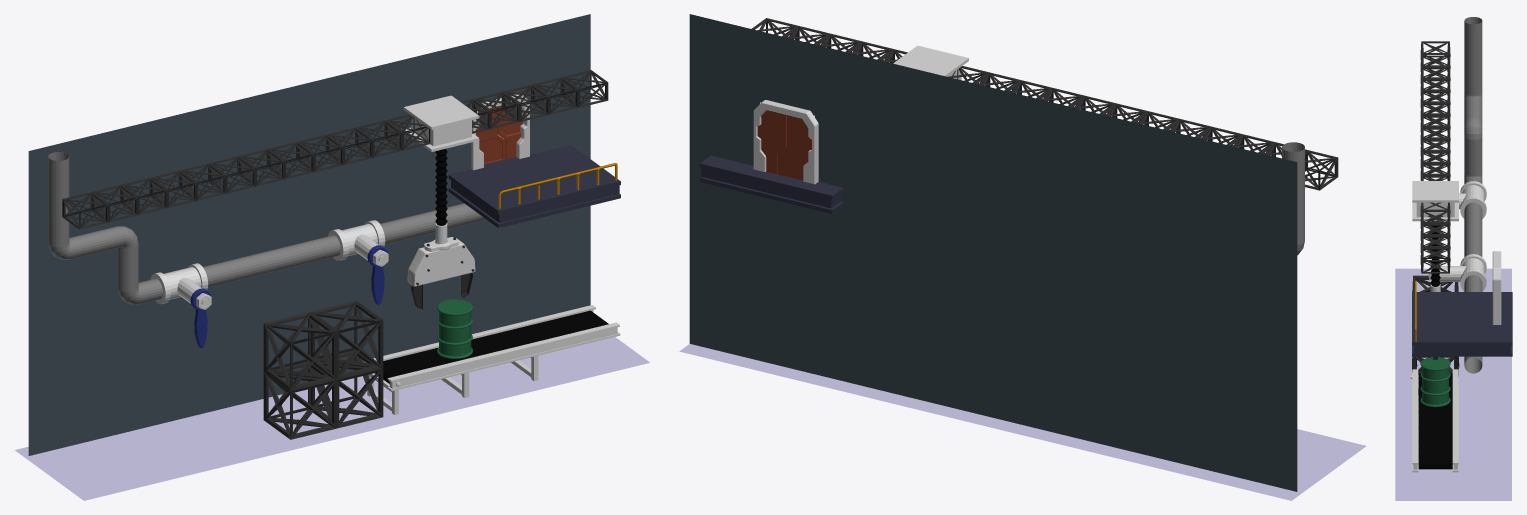
Rendered from production_line.fbx.
The picture shows the model from 3 angles, left to right: view 1: azimuth 30°, elevation 25°; view 2: azimuth 150°, elevation 25°; view 3: azimuth 270°, elevation 25°; orthographic projection. The views are drawn at different scales.
Visible parts, largest first — view 1: wall, floor, rail, pipe, scaffolding, destination, conveyor, belt, gripper_system, gripper, barrel, door (+4 smaller); view 2: wall, floor, rail, destination, door, door_l, gripper_system, door_r, pipe; view 3: floor, destination, pipe, rail, belt, gripper_system, conveyor, barrel, door, scaffolding, valve_r, zstring.
Boxes of the visible parts, x1=… form: wall: x1=28, y1=14, x2=590, y2=455; floor: x1=15, y1=337, x2=649, y2=500; rail: x1=62, y1=70, x2=608, y2=229; pipe: x1=48, y1=152, x2=486, y2=304; scaffolding: x1=263, y1=300, x2=383, y2=439; destination: x1=448, y1=145, x2=620, y2=227; conveyor: x1=363, y1=305, x2=620, y2=414; belt: x1=375, y1=310, x2=608, y2=383; gripper_system: x1=403, y1=95, x2=479, y2=151; gripper: x1=407, y1=239, x2=475, y2=286; barrel: x1=437, y1=299, x2=472, y2=358; door: x1=471, y1=94, x2=529, y2=170; wall: x1=689, y1=14, x2=1297, y2=491; floor: x1=679, y1=344, x2=1366, y2=500; rail: x1=752, y1=18, x2=1338, y2=190; destination: x1=700, y1=147, x2=843, y2=213; door: x1=753, y1=100, x2=818, y2=184; door_l: x1=778, y1=115, x2=811, y2=180; gripper_system: x1=893, y1=45, x2=968, y2=80; door_r: x1=757, y1=110, x2=786, y2=174; pipe: x1=1282, y1=142, x2=1304, y2=255; floor: x1=1395, y1=268, x2=1511, y2=500; destination: x1=1412, y1=292, x2=1512, y2=356; pipe: x1=1460, y1=17, x2=1486, y2=373; rail: x1=1420, y1=41, x2=1450, y2=273; belt: x1=1418, y1=373, x2=1452, y2=469; gripper_system: x1=1412, y1=181, x2=1458, y2=221; conveyor: x1=1412, y1=369, x2=1458, y2=472; barrel: x1=1420, y1=357, x2=1450, y2=407; door: x1=1492, y1=251, x2=1501, y2=324; scaffolding: x1=1412, y1=275, x2=1459, y2=394; valve_r: x1=1428, y1=266, x2=1465, y2=281; zstring: x1=1430, y1=221, x2=1440, y2=286.
Size of the model in its own units: 1842 by 954 by 394.
